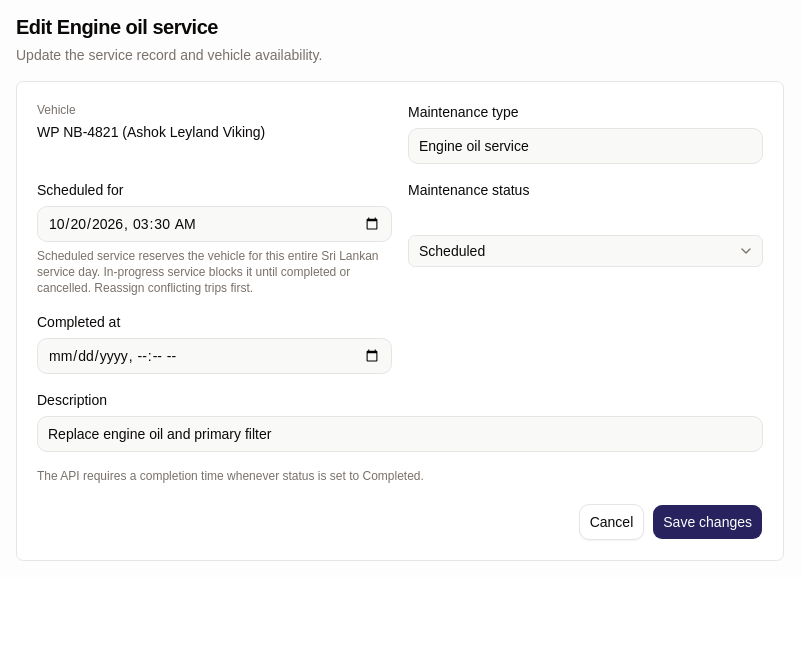
Test case: MaintenanceFormPage › MaintenanceFormPage in edit mode requires a completion time when status is set to Completed and sends no PUT request
This screenshot has width=801, height=666.
Expected: the heading "Edit Engine oil service" is shown, [16,16,218,38]
Step 1. Click the dropdown named "Maintenance status" → (452,251), box [408,235,763,267]
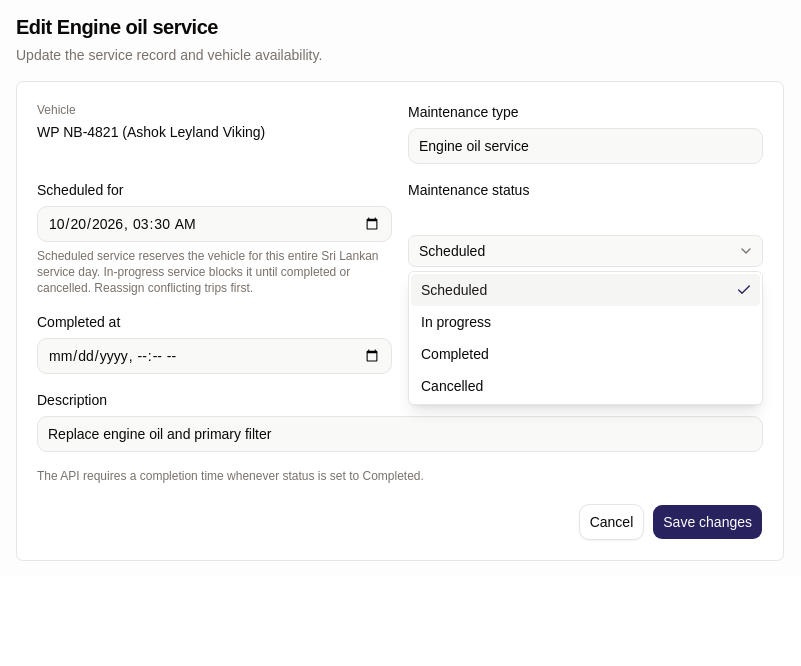
Step 2. Click the option "Completed" → (455,354), box [421,346,489,362]
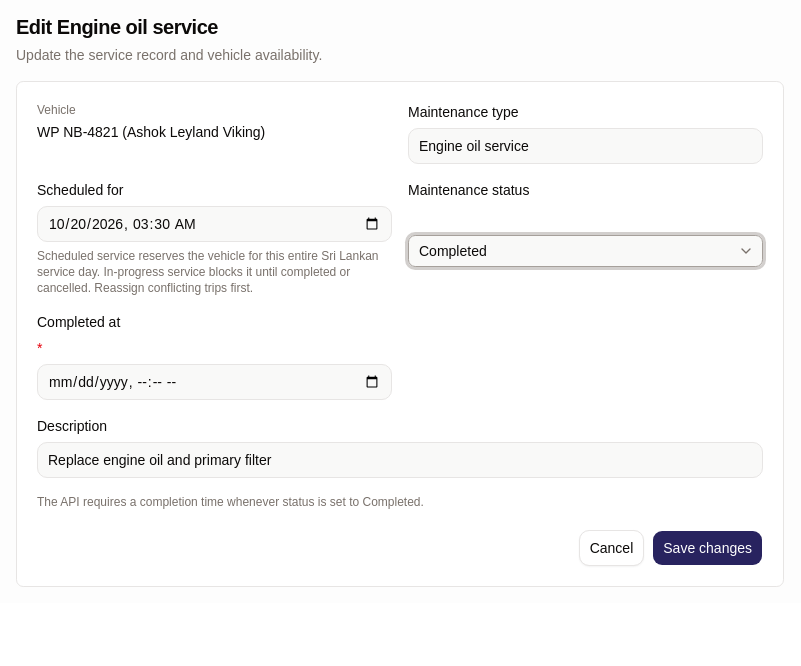
Step 3. Submit the form named "Save changes"
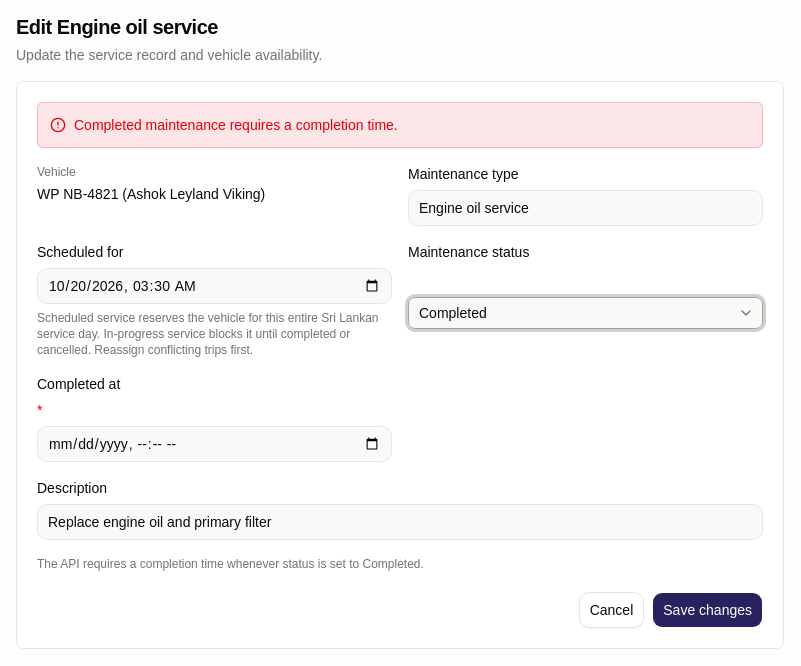
Expected: the text "Completed maintenance requires a completion time." is shown, [74,115,398,135]
